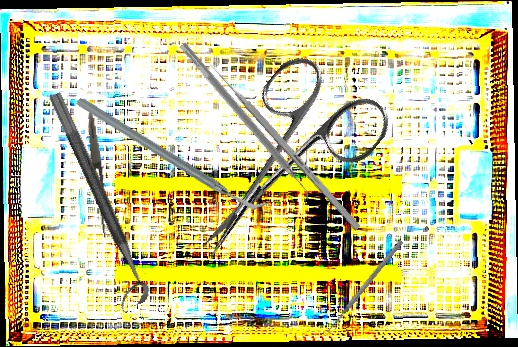Chopper: (74, 44, 271, 264)
Dressing Forceps: (84, 111, 112, 240)
Fixation Ring: (30, 91, 154, 312)
Iris Scissors: (159, 41, 399, 294)
Pusher: (203, 56, 362, 232), (324, 238, 405, 335)
Spatula Surgical: (172, 41, 317, 204)
